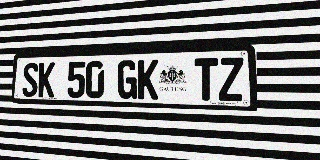0: (85, 61, 104, 98)
5: (67, 61, 85, 98)
G: (117, 60, 137, 99)
K: (137, 59, 158, 99), (38, 62, 55, 97)
S: (22, 63, 38, 97)
T: (194, 58, 218, 101)
Z: (219, 57, 244, 101)
